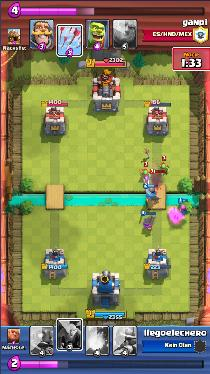ally_archer: (178, 204, 190, 215)
ally_knight: (144, 186, 160, 203)
ally_musketeer: (141, 213, 156, 230)
enemy_musketeer: (150, 173, 163, 187)
enemy_spear_goblin: (160, 161, 170, 175), (141, 168, 150, 180)
